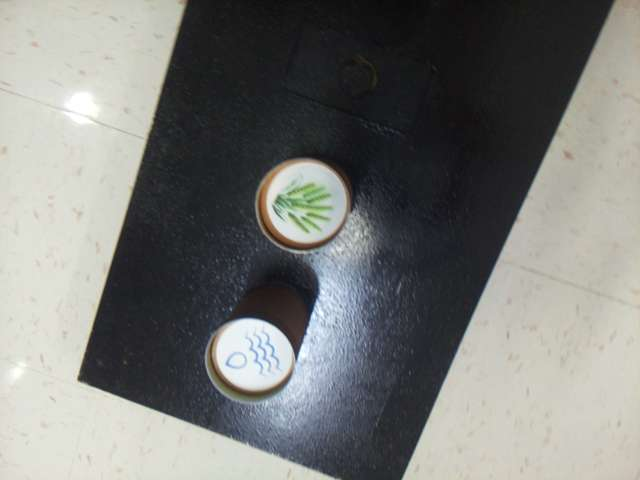water_barrel: (217, 321, 292, 391)
wheat_barrel: (267, 163, 346, 245)
